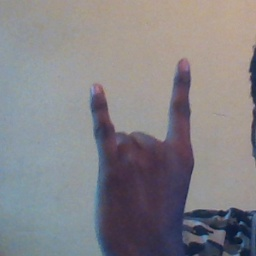V: (80, 54, 199, 246)
